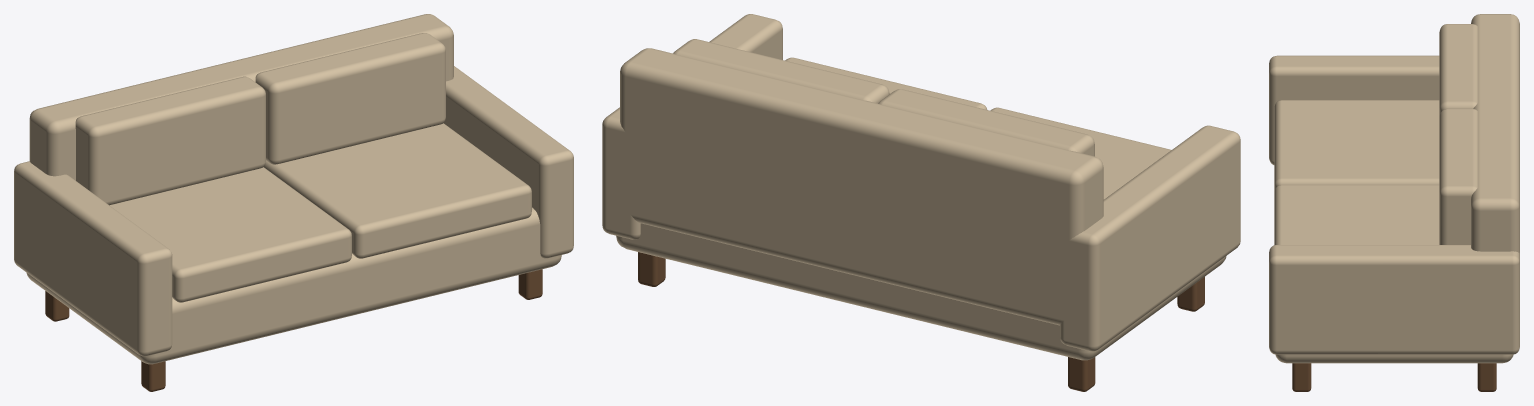
Rendered from cove-loveseat.glb.
The picture shows the model from 3 angles, left to right: view 1: azimuth 30°, elevation 25°; view 2: azimuth 150°, elevation 25°; view 3: azimuth 270°, elevation 25°; orthographic projection. The views are drawn at different scales.
Visible parts, largest first — view 1: Seat cushion (×2), Back cushion (×2), Arm (×2), Base, Back, Leg (×3); view 2: Back, Arm (×2), Base, Back cushion (×2), Seat cushion (×2), Leg (×3); view 3: Arm (×2), Seat cushion (×2), Back, Back cushion (×2), Base, Leg (×2).
Part boxes in pixels (x1,y1,x2,y2): Seat cushion (×2): [110, 123, 531, 302]; Back cushion (×2): [75, 33, 445, 205]; Arm (×2): [14, 66, 573, 356]; Base: [26, 207, 561, 364]; Back: [29, 14, 453, 180]; Leg (×3): [45, 269, 542, 391]; Back: [620, 48, 1103, 325]; Arm (×2): [602, 14, 1240, 351]; Base: [616, 223, 1226, 360]; Back cushion (×2): [673, 39, 1094, 156]; Seat cushion (×2): [785, 57, 1171, 199]; Leg (×3): [638, 252, 1204, 391]; Arm (×2): [1269, 55, 1519, 354]; Seat cushion (×2): [1274, 100, 1439, 245]; Back: [1471, 14, 1519, 253]; Back cushion (×2): [1439, 24, 1477, 244]; Base: [1275, 354, 1513, 363]; Leg (×2): [1292, 363, 1496, 391].
Bounding box in the file's own units: 1.78 × 0.79 × 0.92.
